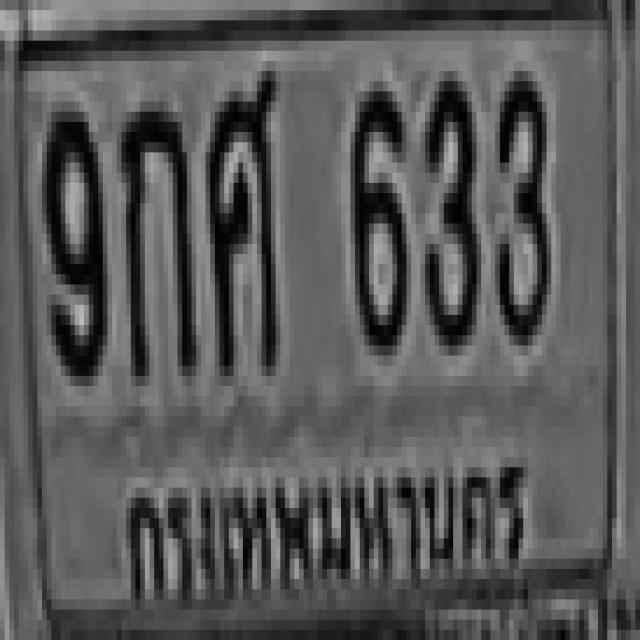10GorGai: (117, 91, 191, 376)
3: (421, 71, 476, 346), (493, 61, 544, 335)
47SorSala: (206, 66, 276, 371)
6: (348, 82, 404, 346)
9: (42, 101, 103, 376)
Bangkok: (117, 437, 532, 612)
